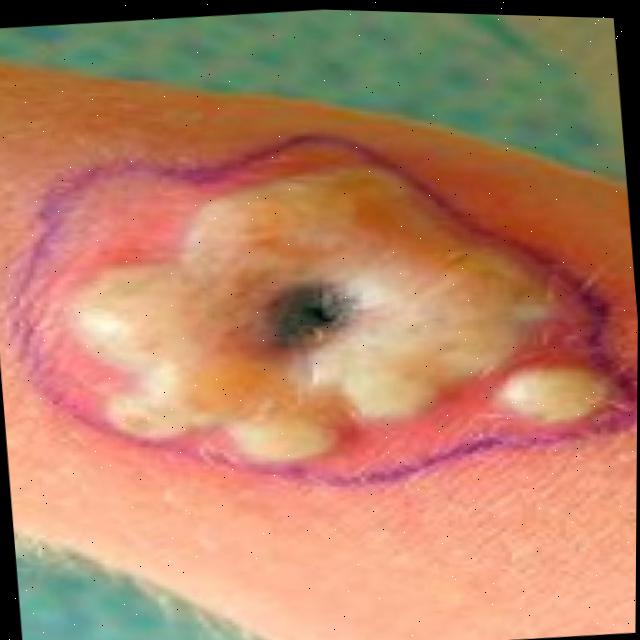Eczema: (2, 83, 636, 511)
